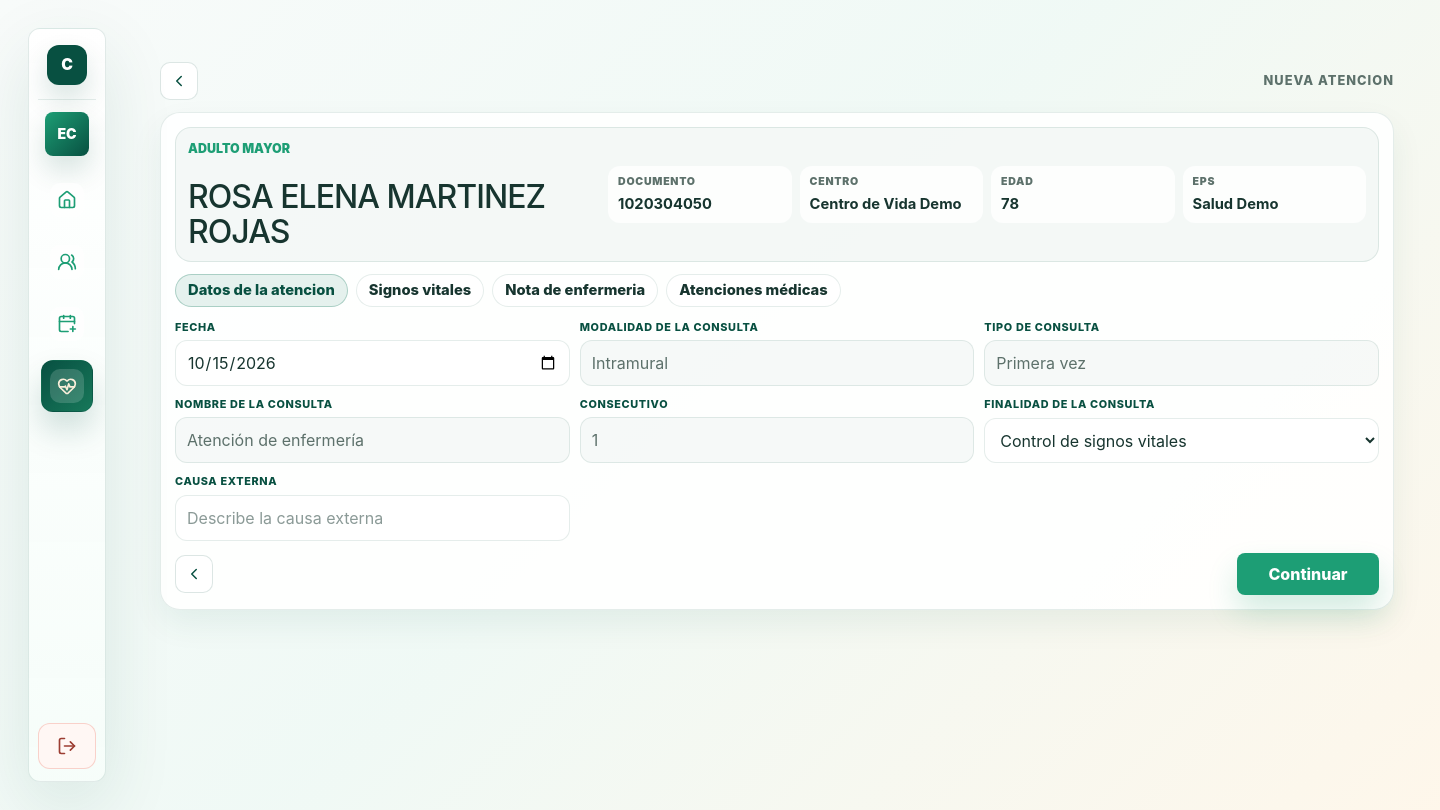
Test: App atenciones de enfermería form flow › permite crear una atencion de enfermeria para un adulto del tenant
Expected: the text "Nueva atencion" is shown, [1264,71,1394,91]
Click the button "Continuar" at point(1308, 574), box [1237,553,1379,595]
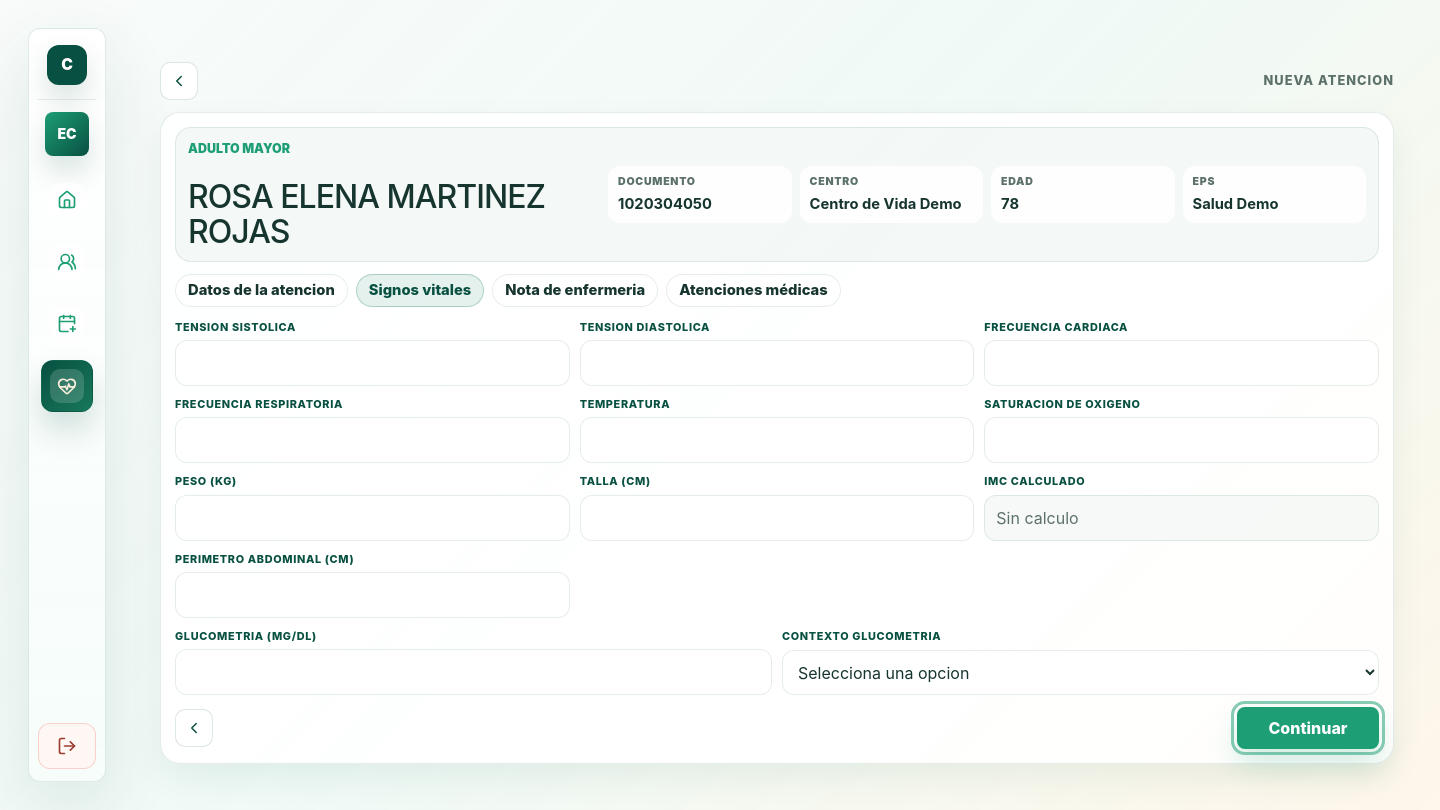
Type "120" into the field labelled "Tension sistolica" at point(372, 363), box [175,340,570,386]
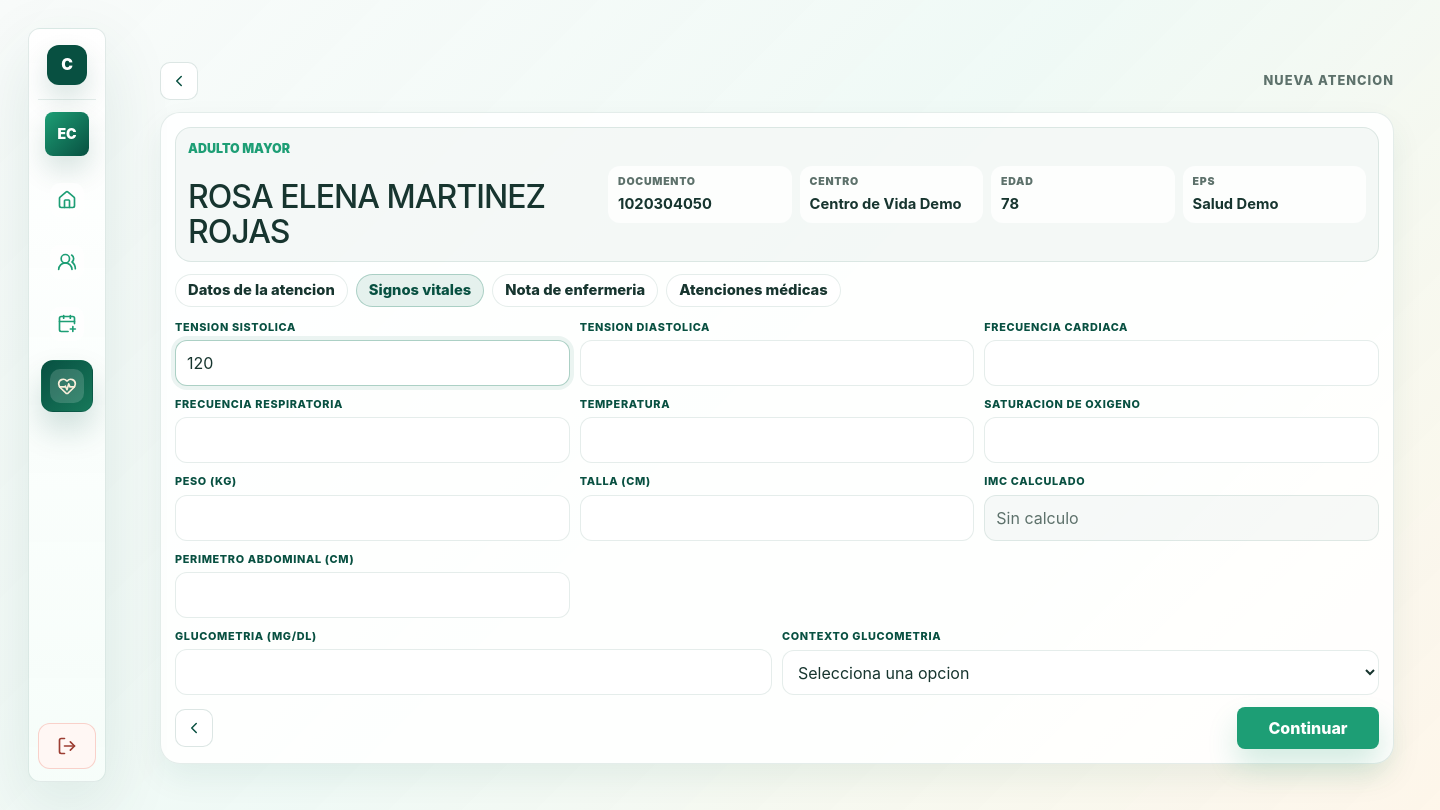
Click the button "Continuar" at point(1308, 728), box [1237,707,1379,749]
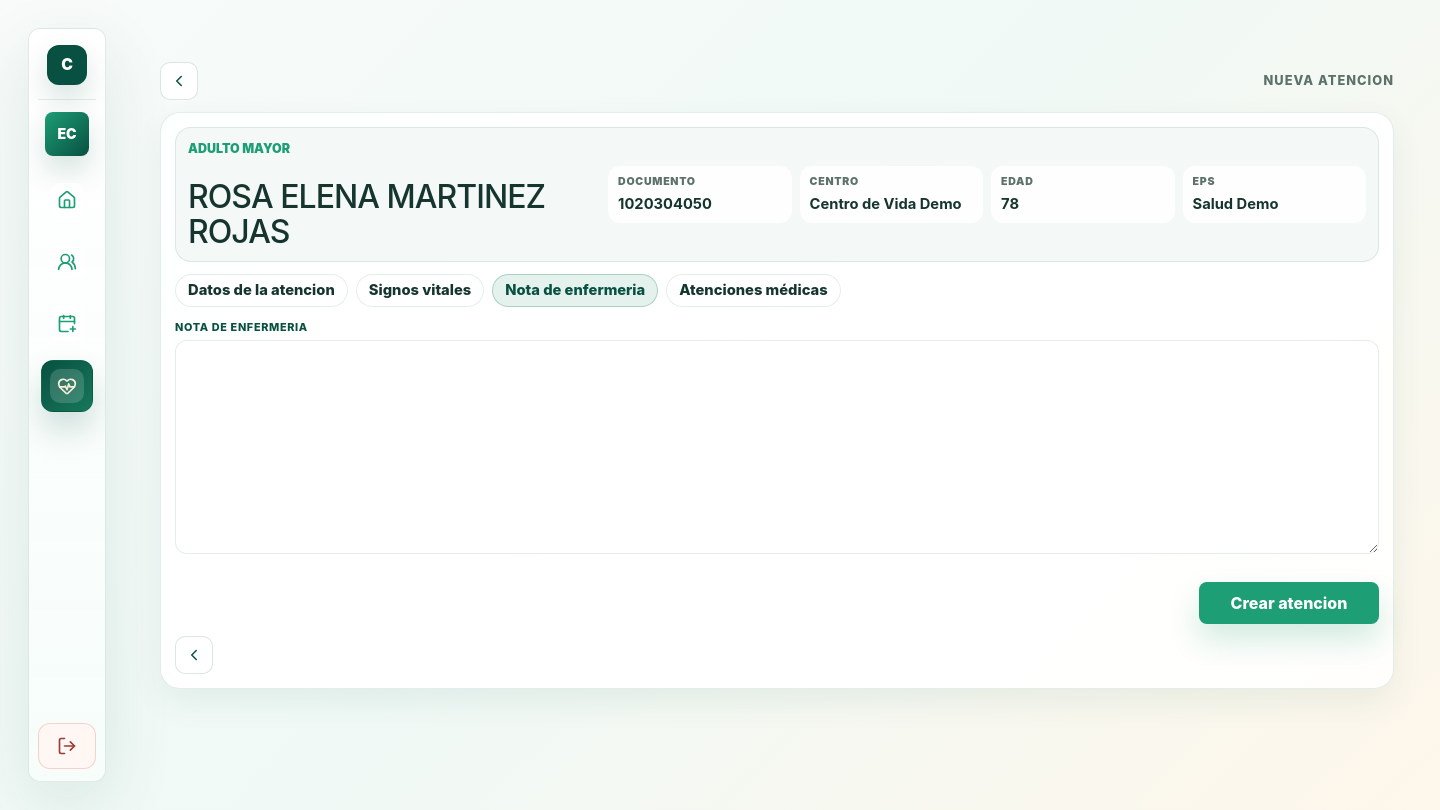
Click the tab "Nota de enfermeria" at point(575, 290), box [492,274,658,307]
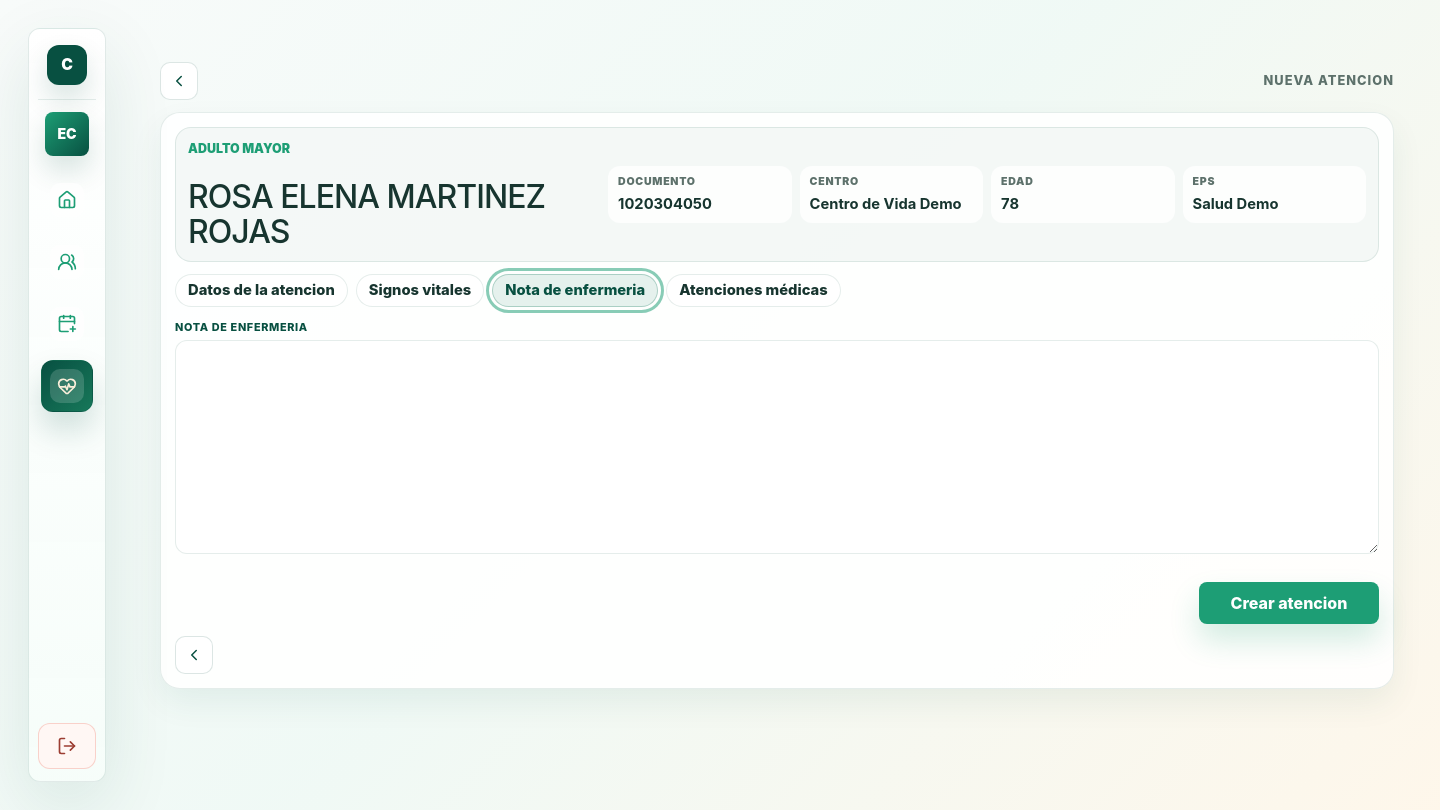
Type "Atencion inicial de enfermeria." into the text box labelled "Nota de enfermeria" at point(777, 447), box [175,340,1379,554]
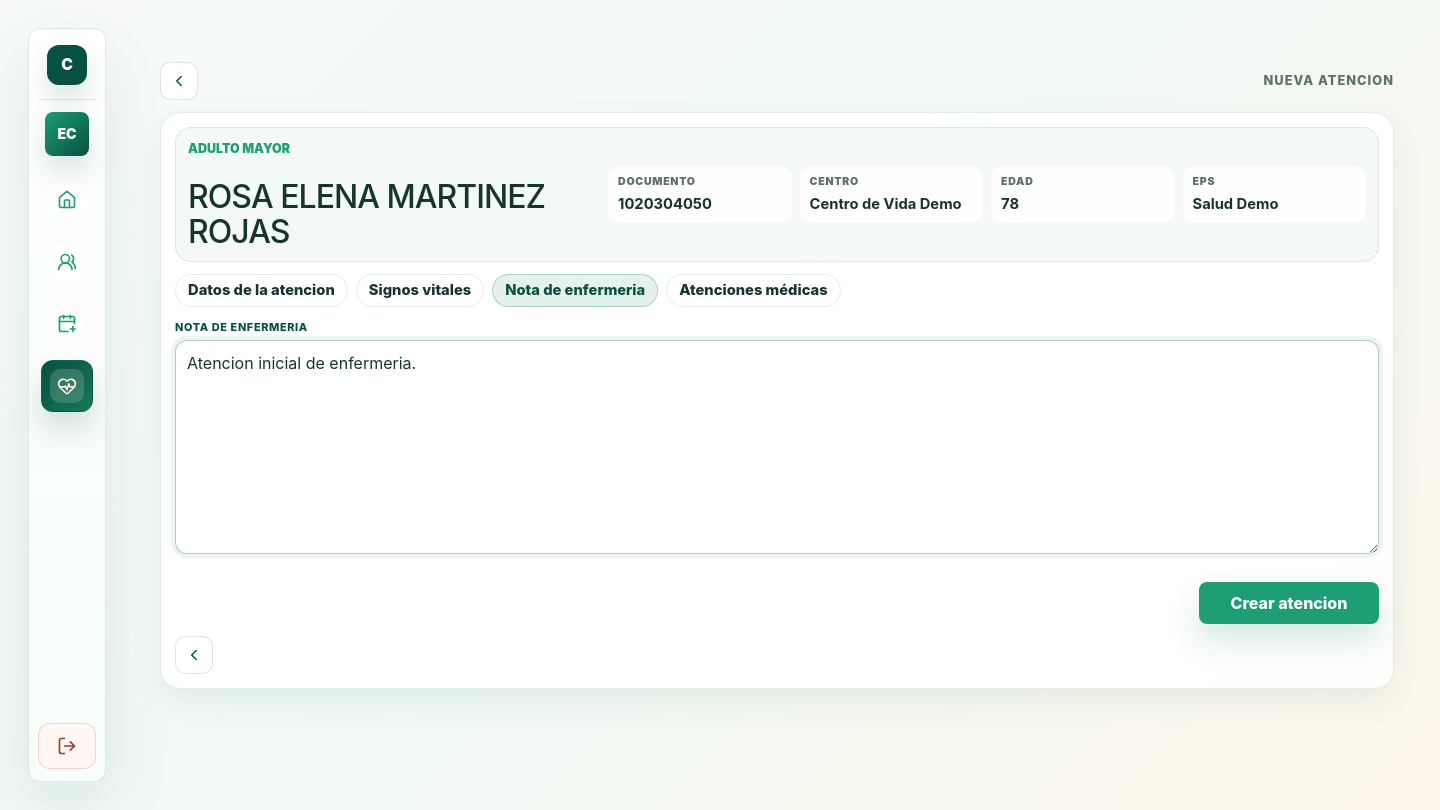
Click the button "Crear atencion" at point(1289, 603), box [1199,582,1379,624]
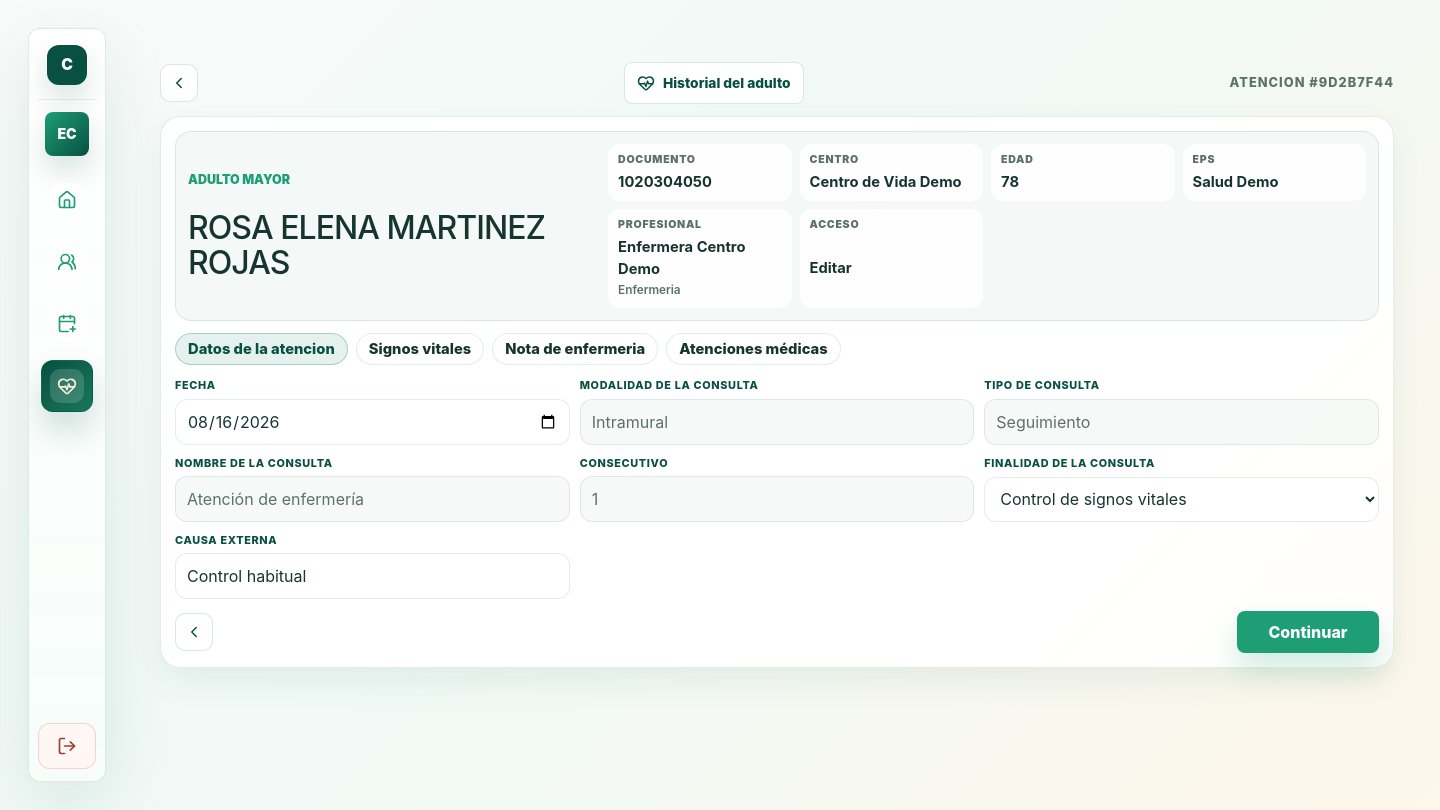
Expected: the text "Adulto mayor" is shown, [188,172,290,187]
Result: the button "Continuar" is shown at [1237,611,1379,653]
